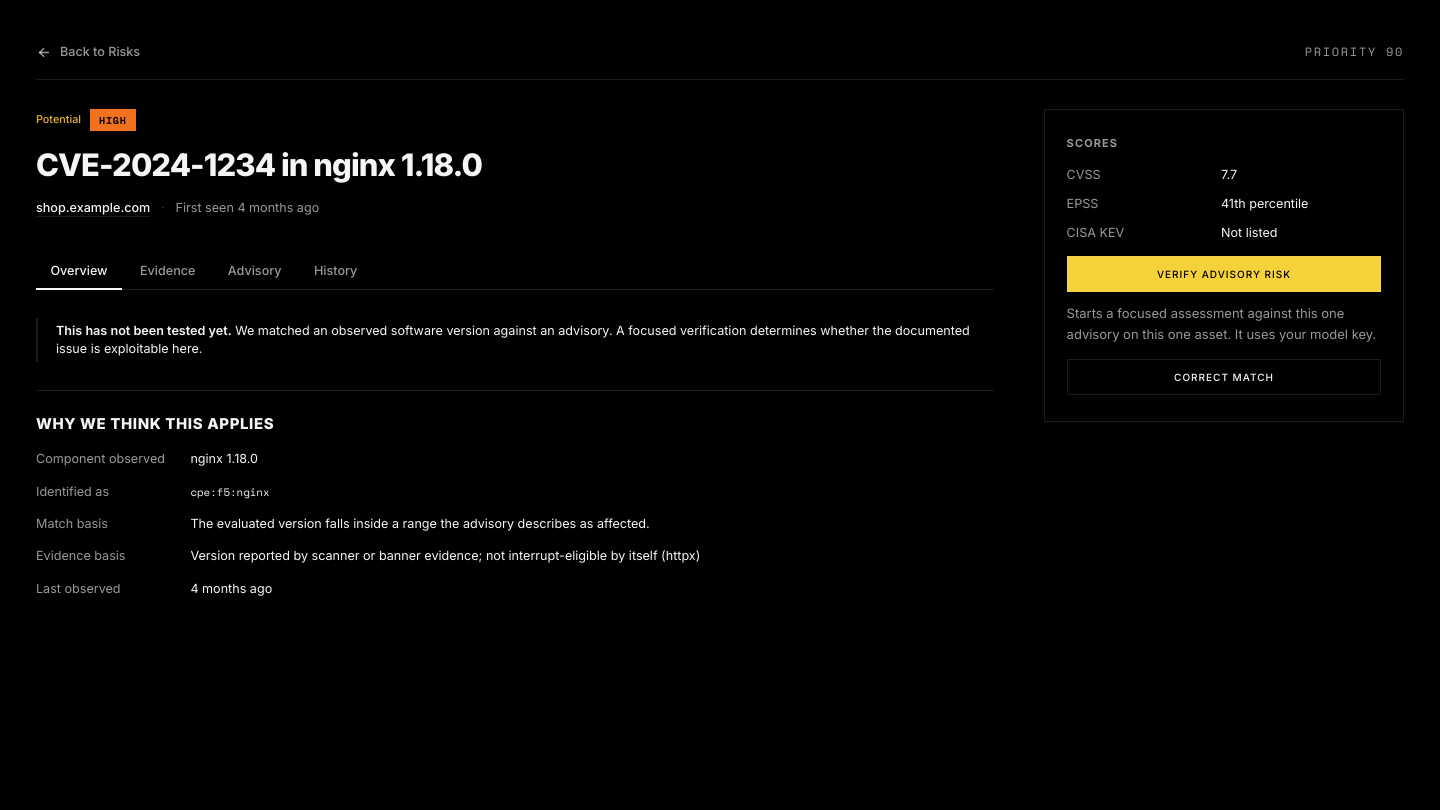
ExposureDetailPage › makes correction scope explicit instead of offering Not Us
Click the button "Correct match".
click(1224, 377)  # box x1=1067 y1=359 x2=1381 y2=395
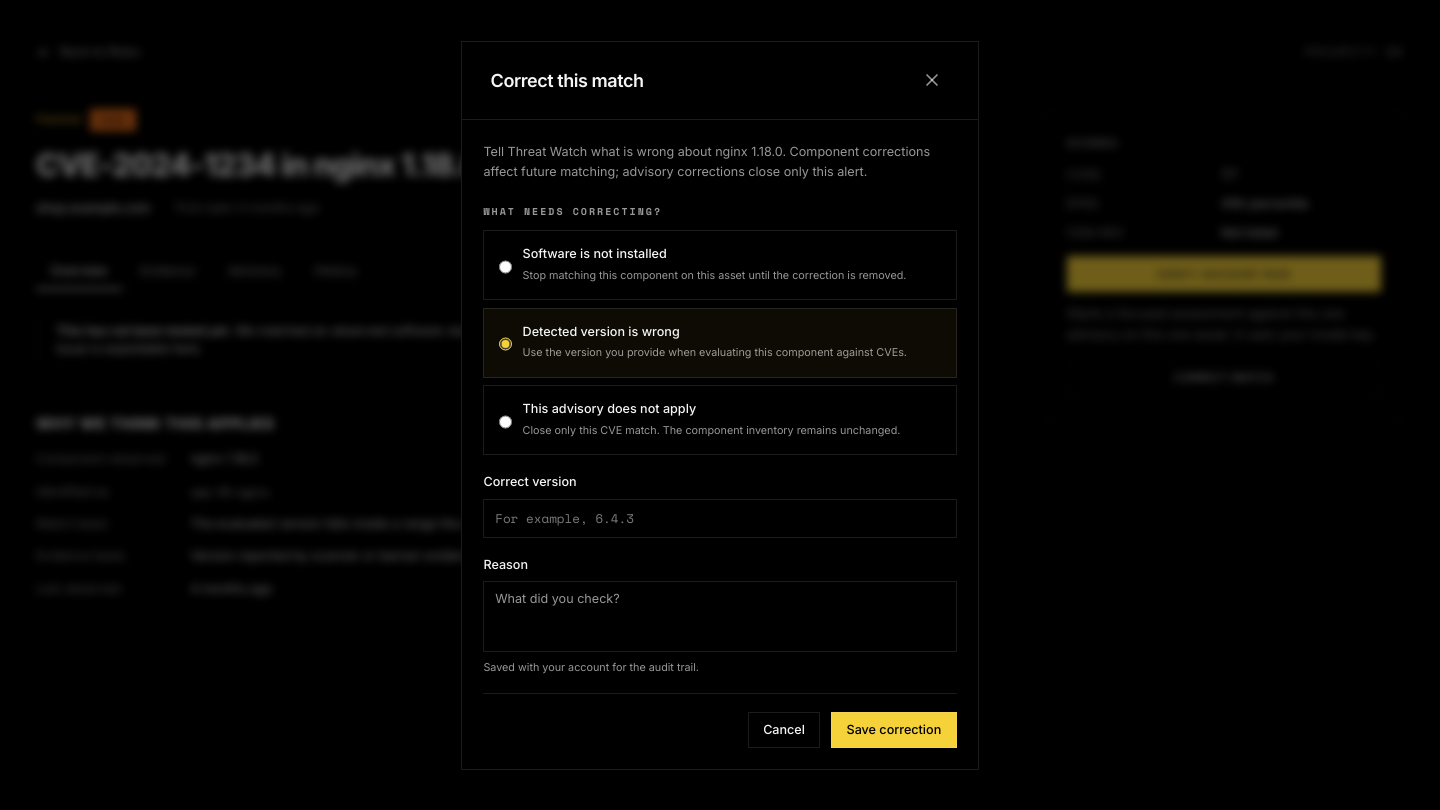
Check: the text "Software is not installed" is shown, box x1=523 y1=246 x2=667 y2=261
Check: the text "Detected version is wrong" is shown, box x1=523 y1=324 x2=680 y2=339
Check: the text "This advisory does not apply" is shown, box x1=523 y1=401 x2=696 y2=416
